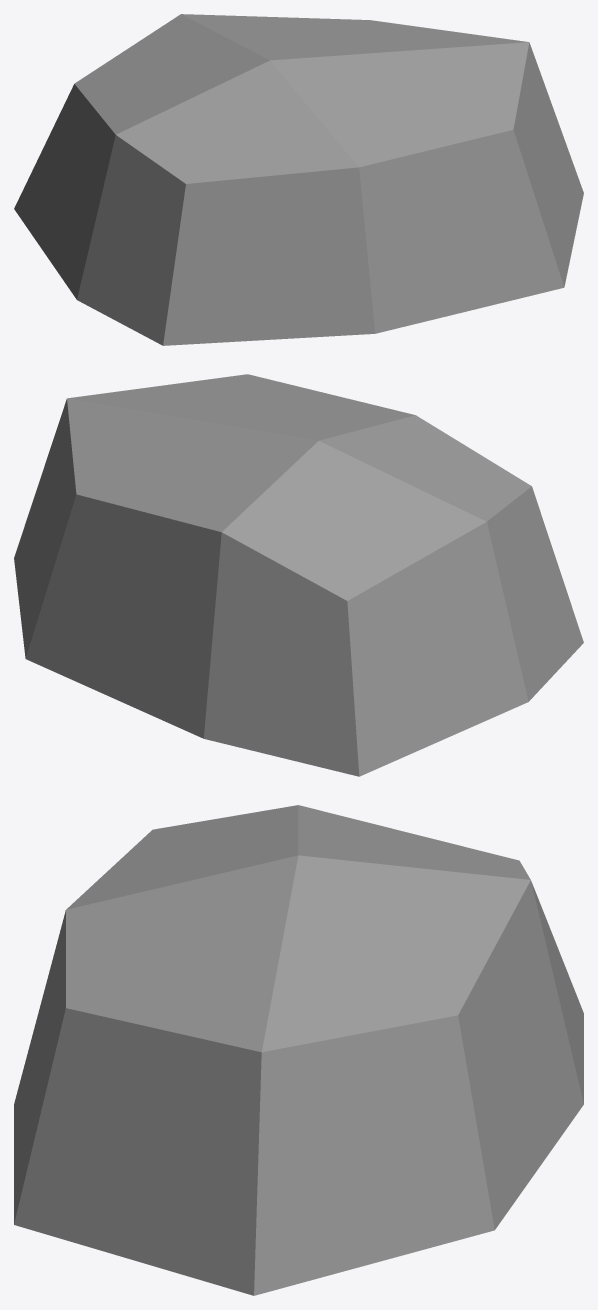
The model's file is Rock_1.fbx.
3 renders of one model, top to bottom at view 1: azimuth 30°, elevation 25°; view 2: azimuth 150°, elevation 25°; view 3: azimuth 270°, elevation 25°, orthographic. The views are drawn at different scales.
Parts seen in each view (by area): view 1: Rock_1; view 2: Rock_1; view 3: Rock_1.
Boxes of the visible parts, <box> form: Rock_1: <box>14,14,583,345</box>; Rock_1: <box>14,374,583,776</box>; Rock_1: <box>14,805,583,1295</box>.
Bounding box in the file's own units: 205 × 77.2 × 159.
Materials: 1 (1 with a texture image).
